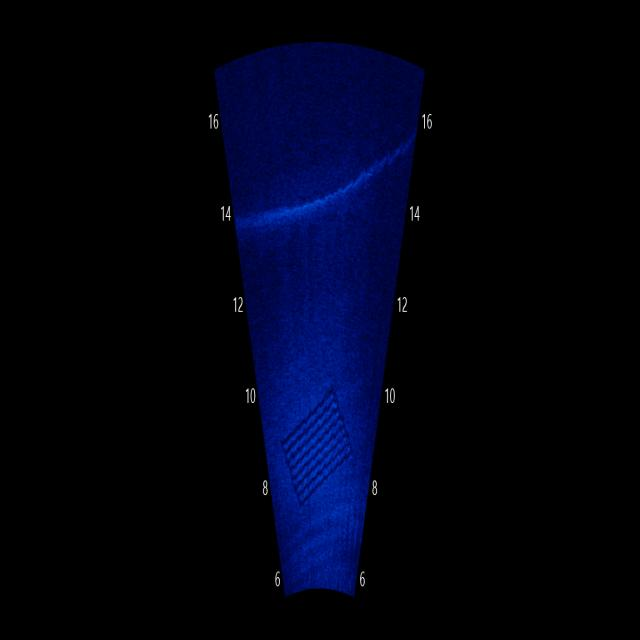square: (277, 369, 361, 514)
